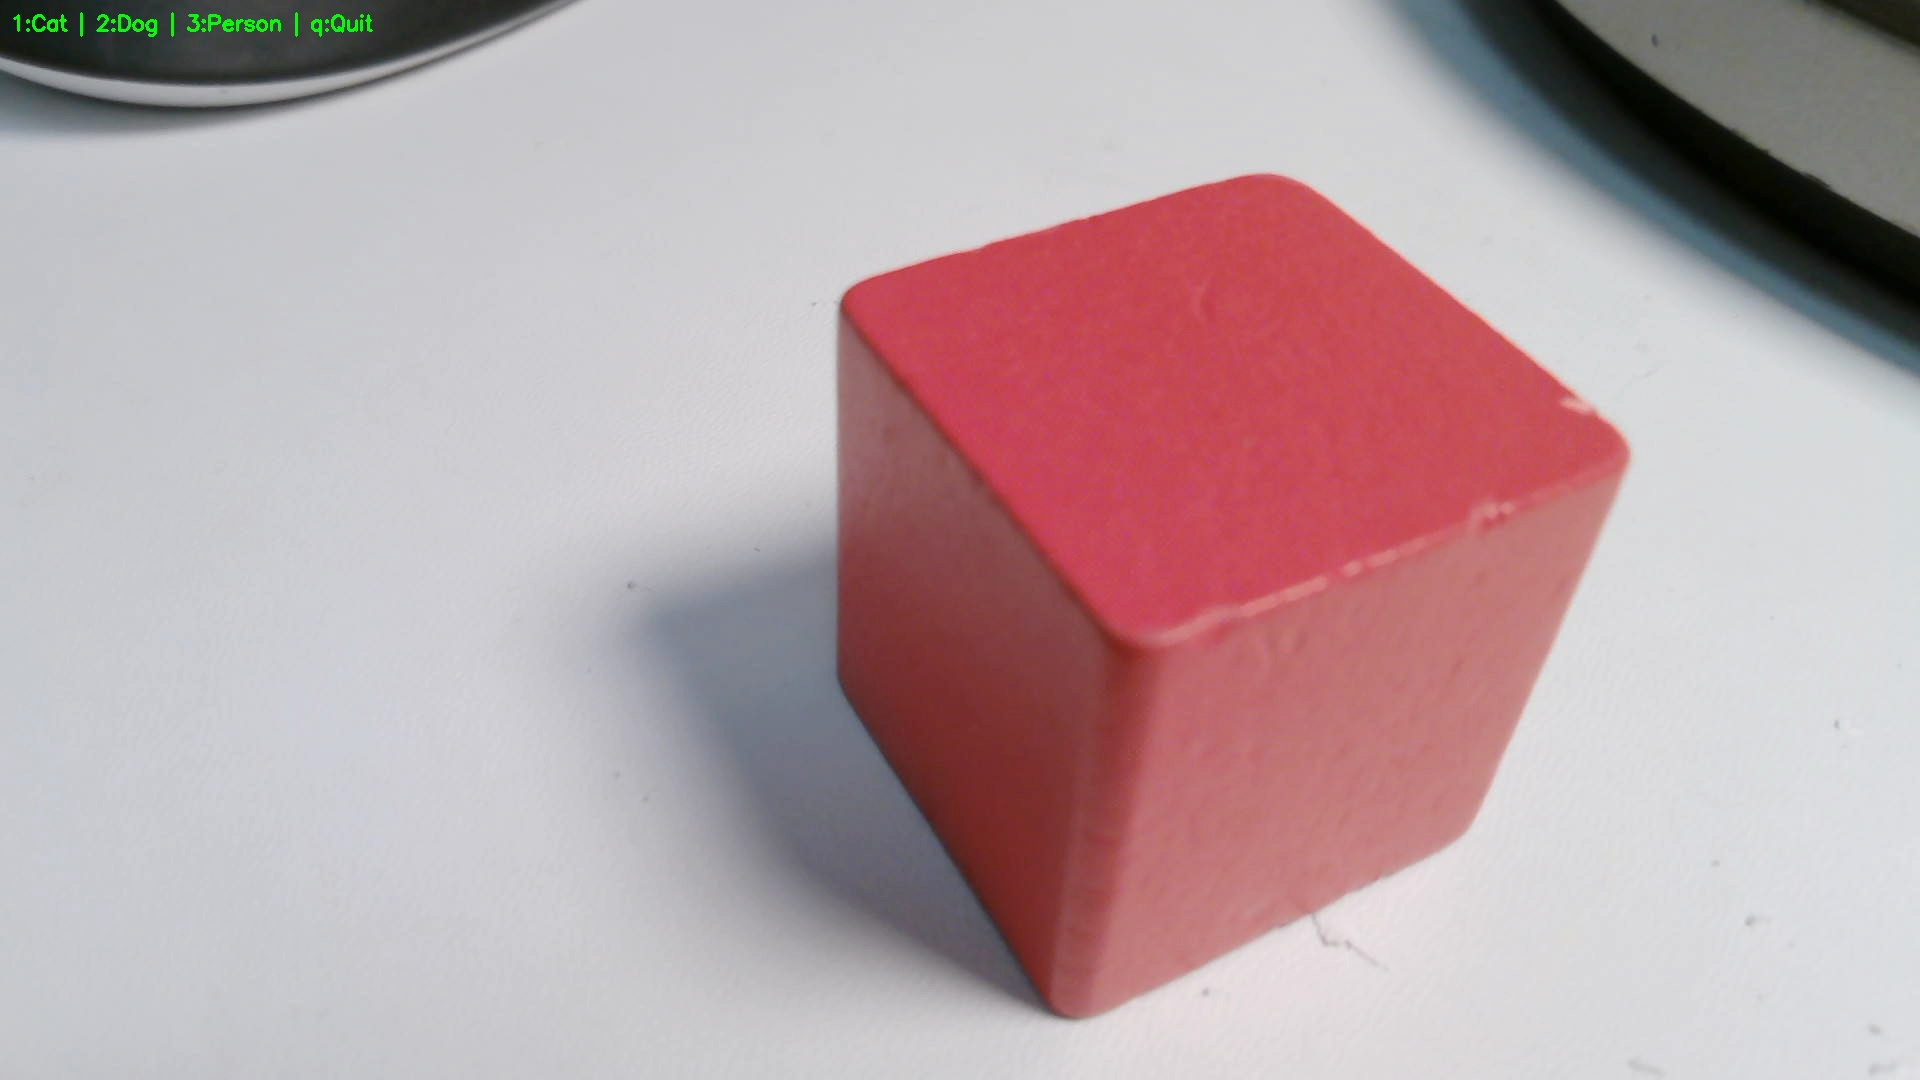red: (833, 177, 1633, 1018)
